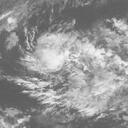cyclone: (33, 34, 91, 89)
